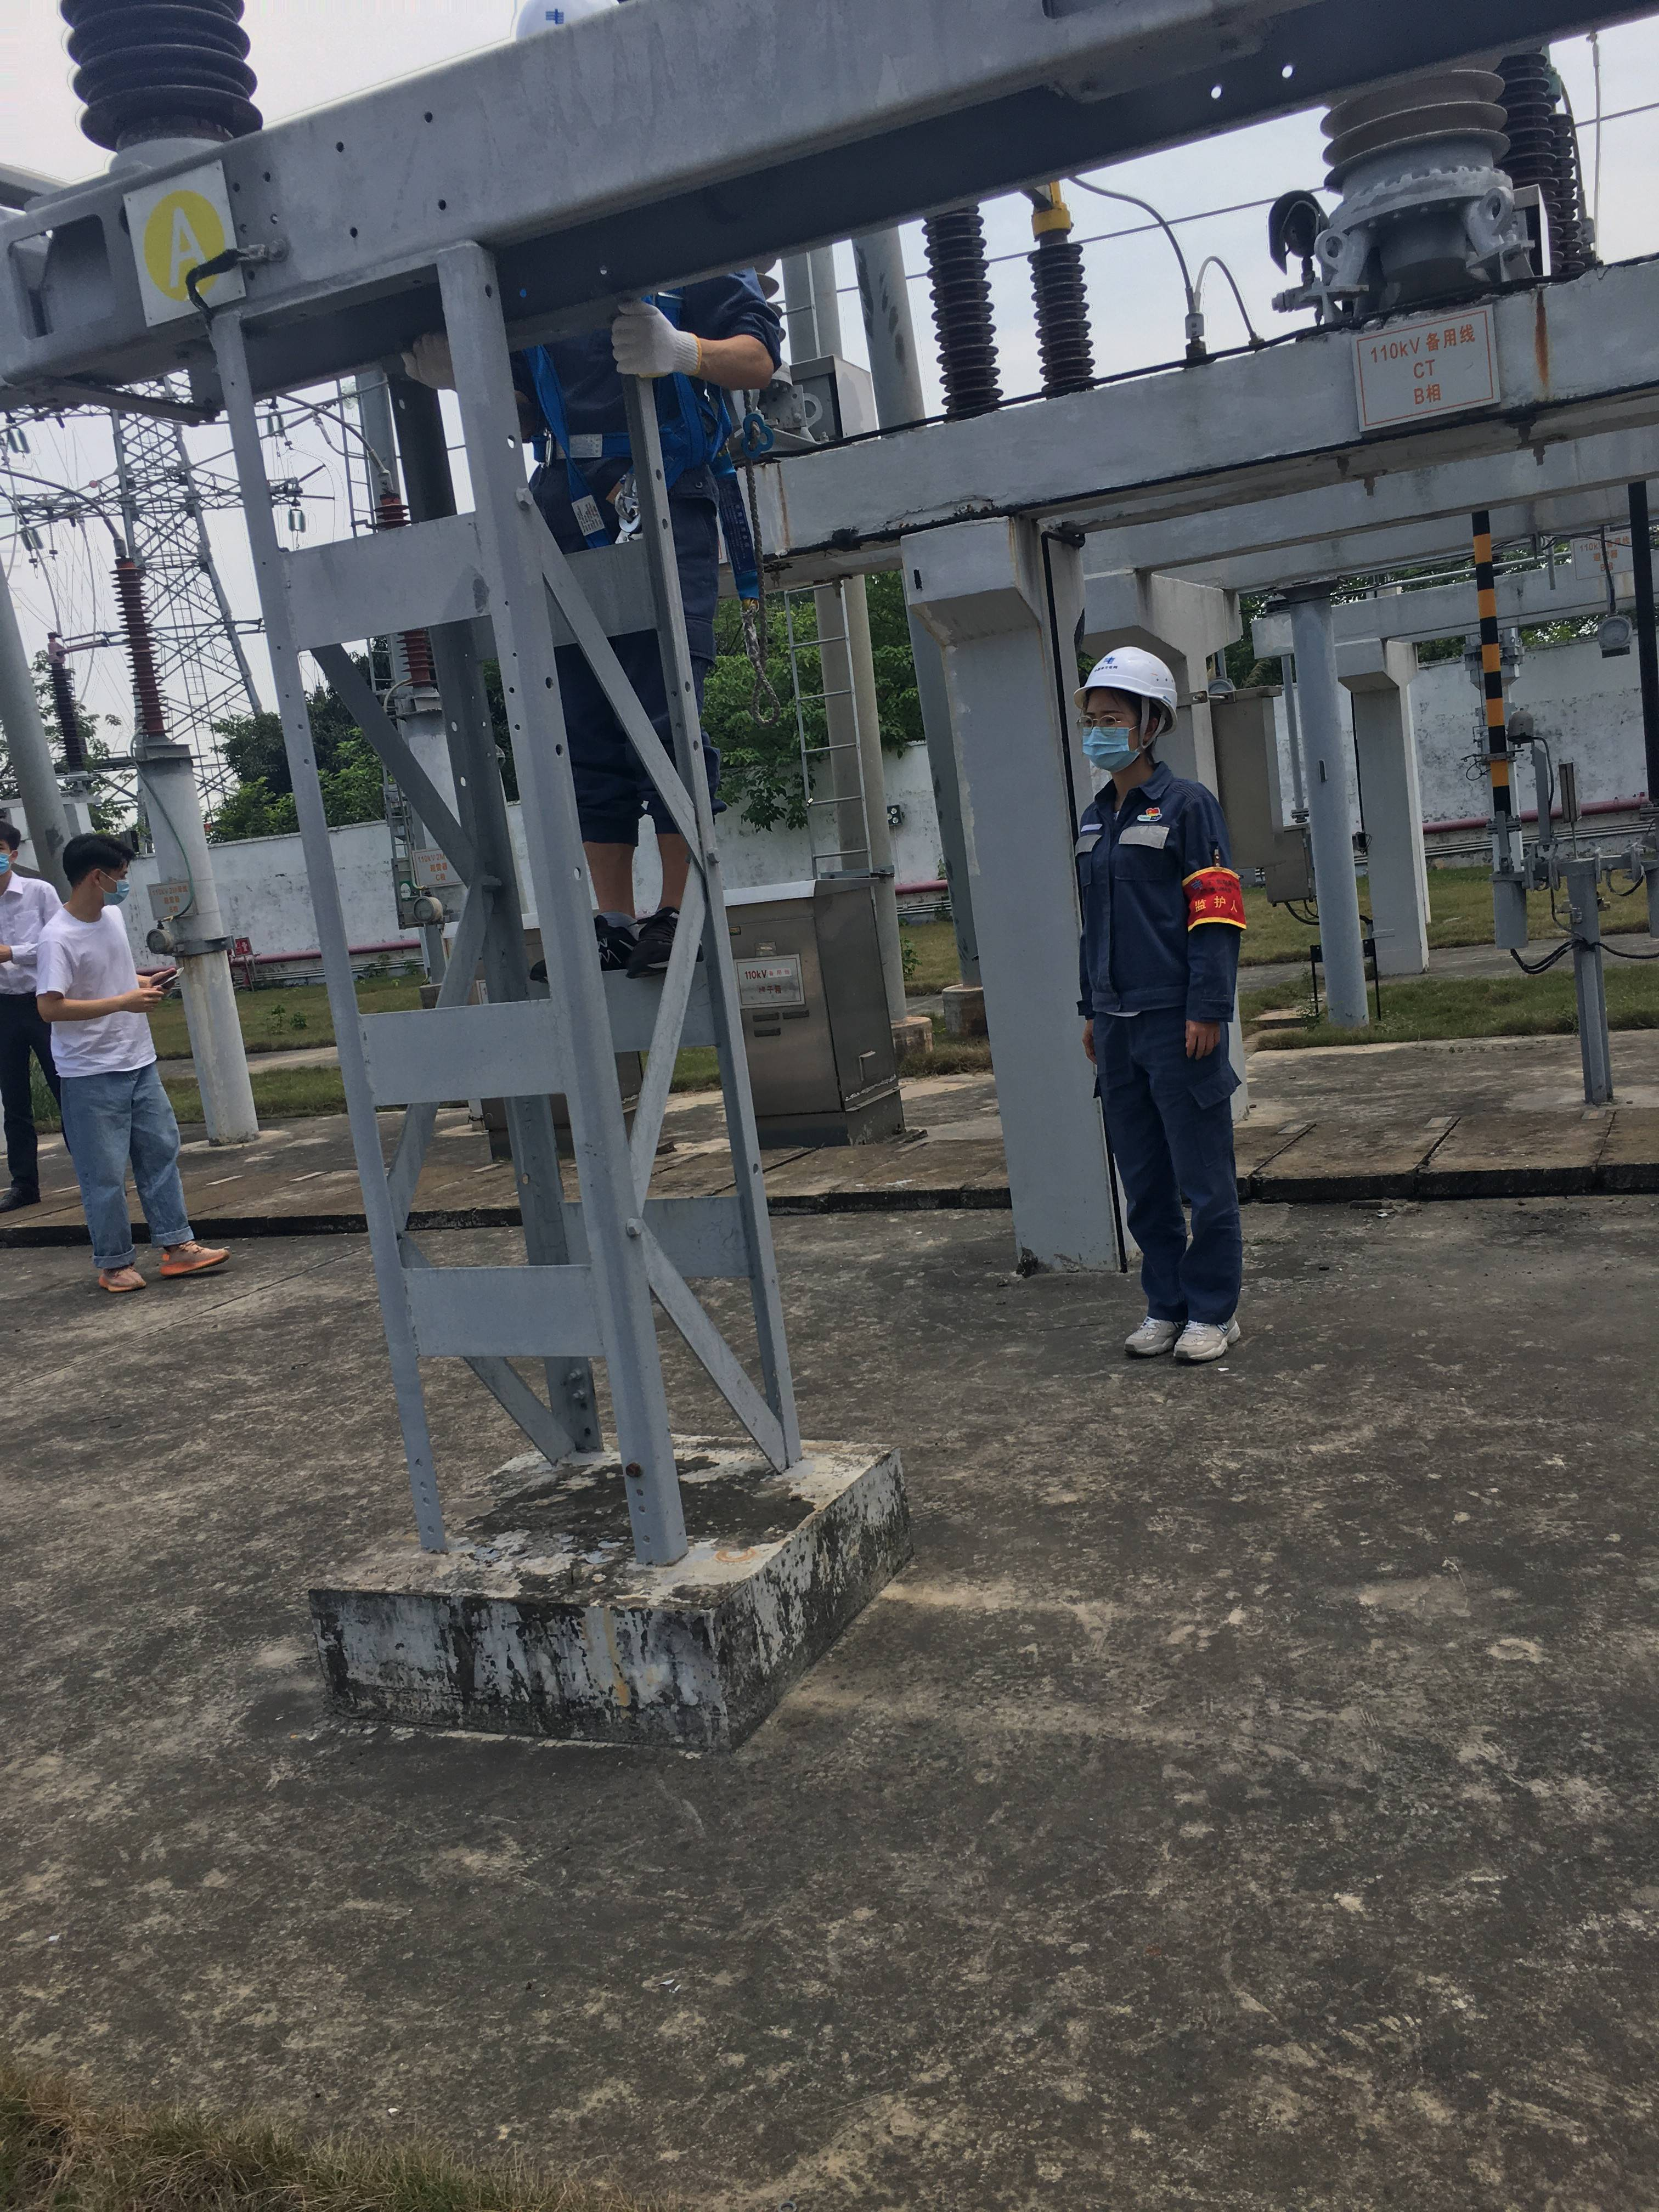downcloth: (64, 1082, 193, 1259)
downsuit: (1110, 1040, 1243, 1320)
upcloth: (49, 911, 155, 1073)
upsuit: (1073, 775, 1229, 1019)
wrongbottom: (570, 789, 685, 939)
wrongtop: (690, 303, 786, 383)
